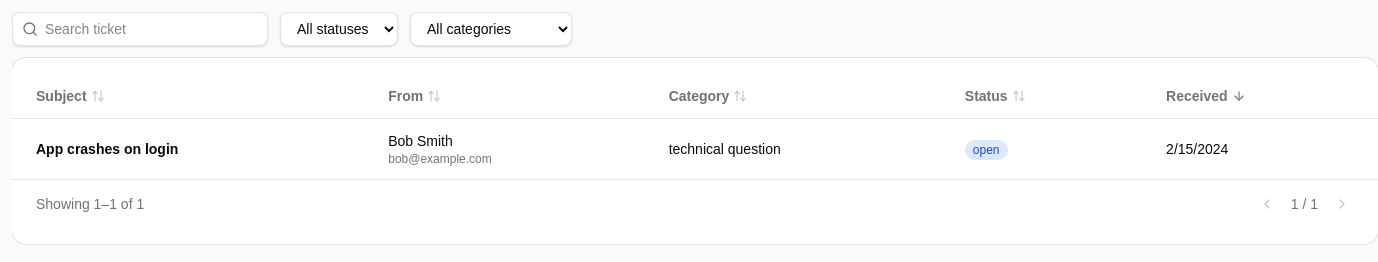
it: TicketsTable — filters › Clear filters button appears when a status filter is active
Expected: the text "Bob Smith" is shown, [388, 133, 453, 149]
Select "Open" in the 1st dropdown showing "All statuses" at [339, 29], box [280, 12, 398, 46]
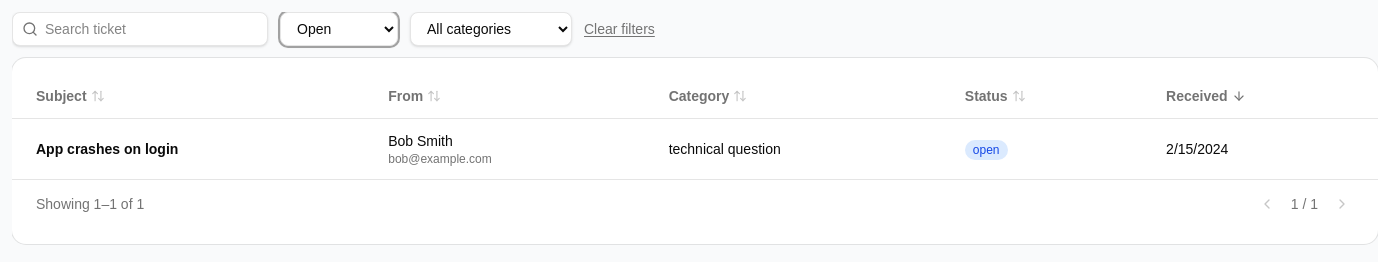
Expected: the button "Clear filters" is shown, [584, 12, 655, 46]
